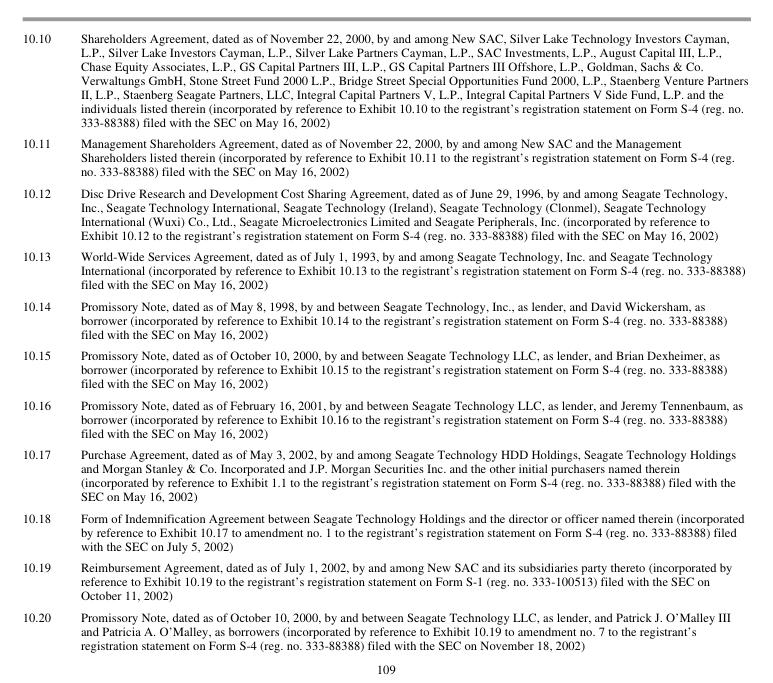table: (21, 28, 747, 652)
table column: (64, 28, 747, 652), (21, 28, 64, 652)
table row: (21, 28, 747, 131), (21, 442, 747, 506), (21, 181, 747, 244), (21, 131, 747, 181), (21, 244, 747, 294), (21, 343, 747, 393), (21, 555, 747, 605), (21, 294, 747, 343), (21, 393, 747, 442), (21, 506, 747, 555), (21, 605, 747, 652)
